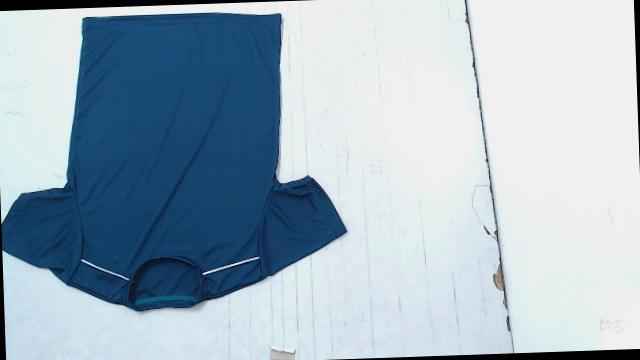new-garment: (1, 13, 345, 311)
